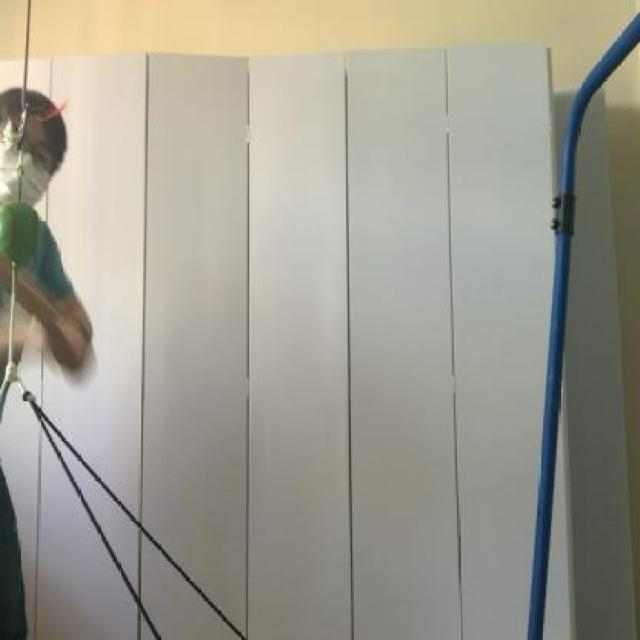baseball: (0, 195, 57, 268)
